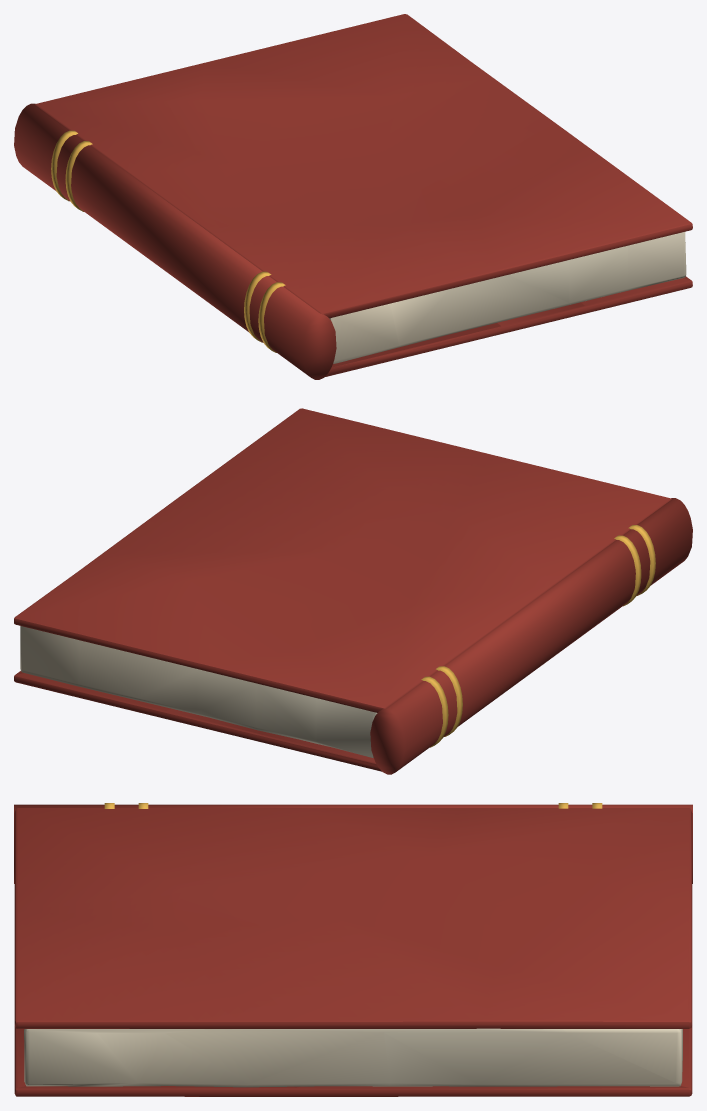
File: frost_book_red_lod1.glb
The picture shows the model from 3 angles, top to bottom: view 1: azimuth 30°, elevation 25°; view 2: azimuth 150°, elevation 25°; view 3: azimuth 270°, elevation 25°; orthographic projection. The views are drawn at different scales.
Parts seen in each view (by area): view 1: frost_book_red.001; view 2: frost_book_red.001; view 3: frost_book_red.001.
Boxes of the visible parts, x1,y1,x2,y2 form: frost_book_red.001: (14,14,692,379); frost_book_red.001: (14,408,692,774); frost_book_red.001: (14,803,692,1096).
Size of the model in its own units: 18.95 by 3.12 by 24.05.
